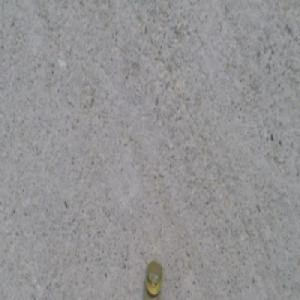BoltNutSet: (144, 262, 162, 299)
